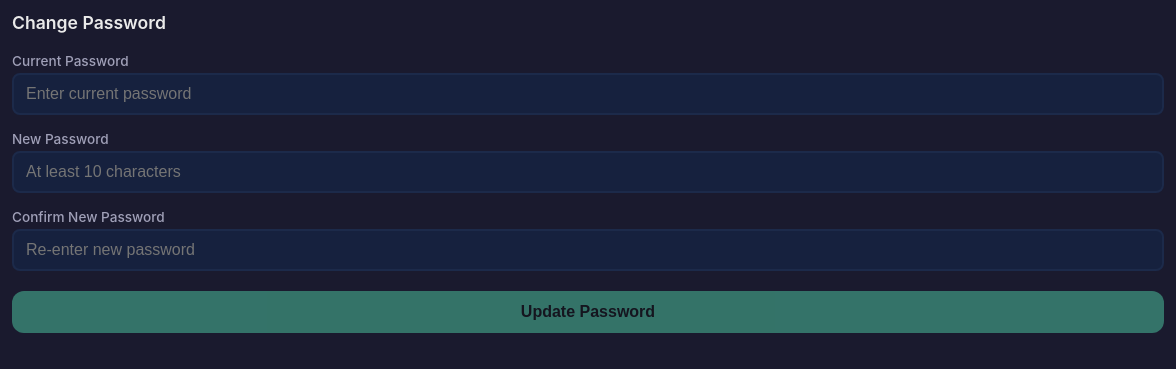
Test: ChangePasswordForm › shows validation error on new password blur with short value
The image size is (1176, 369).
Type "short" into the password field labelled "New Password" at (588, 172), box [12,151,1164,193]
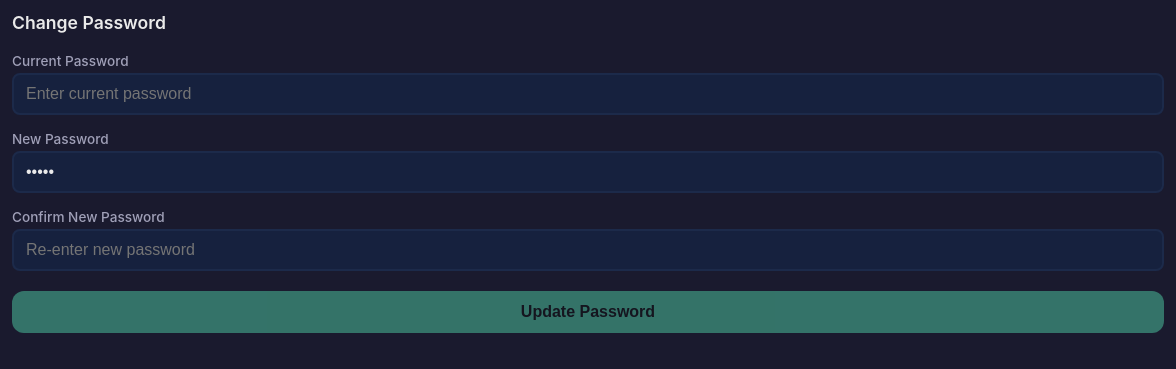
Leave the password field labelled "New Password", box [12,151,1164,193]
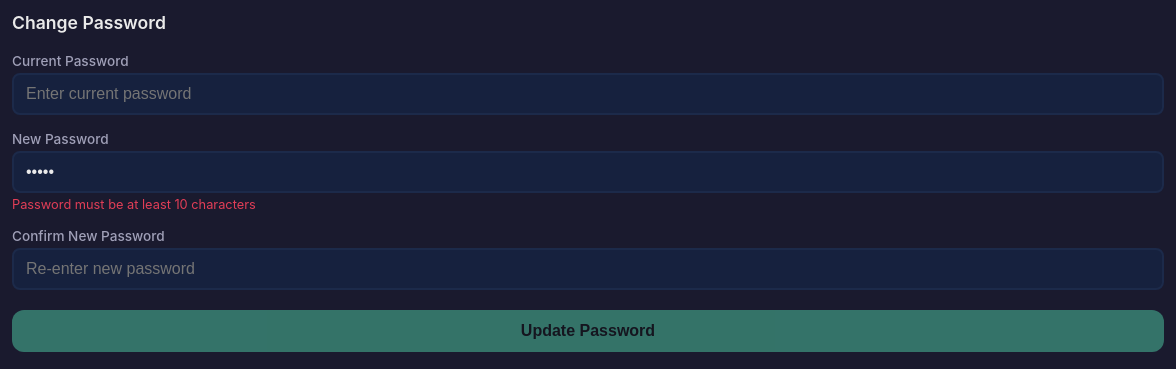
Check: the text "Password must be at least 10 characters" is shown, box [12,197,256,212]
